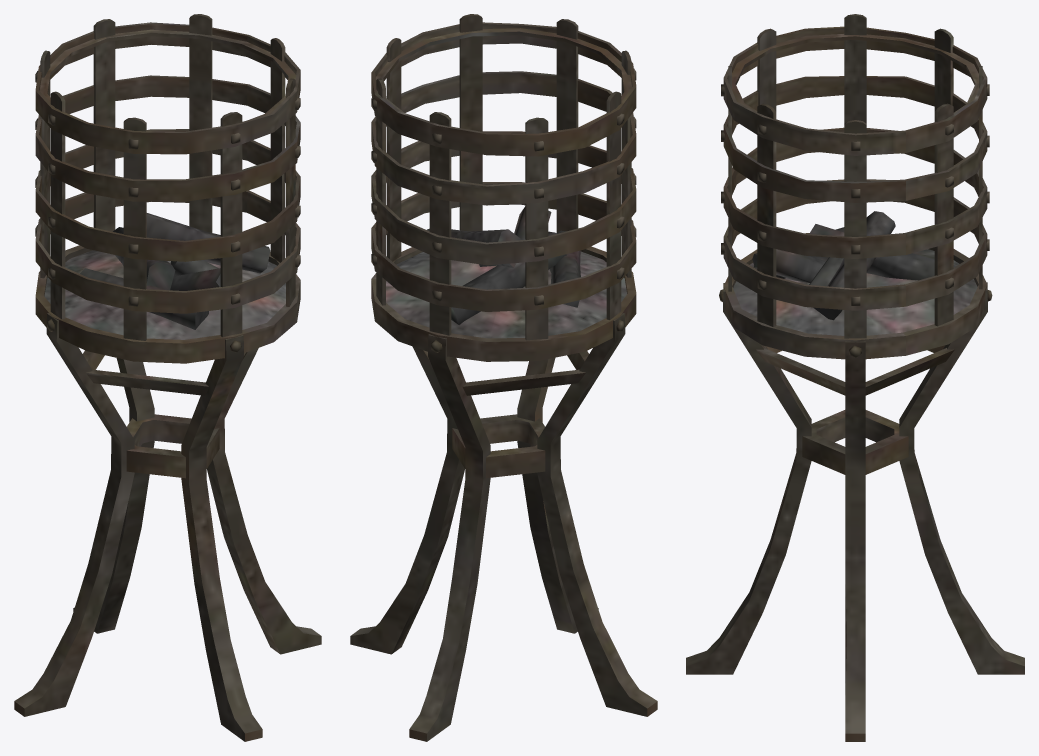
The model's file is GEN_PRO_Brasero_Small_Metal_03A_LOD0-transformed.glb.
The picture shows the model from 3 angles, left to right: view 1: azimuth 30°, elevation 25°; view 2: azimuth 150°, elevation 25°; view 3: azimuth 270°, elevation 25°; orthographic projection.
Visible parts, largest first — view 1: default; view 2: default; view 3: default.
Part boxes in pixels (left/top/right/bottom): default: left=14, top=14, right=321, bottom=741; default: left=350, top=14, right=657, bottom=741; default: left=686, top=14, right=1024, bottom=741.
Size of the model in its own units: 0.4462 by 0.8756 by 0.4462.
Materials: 2 (2 with a texture image).
